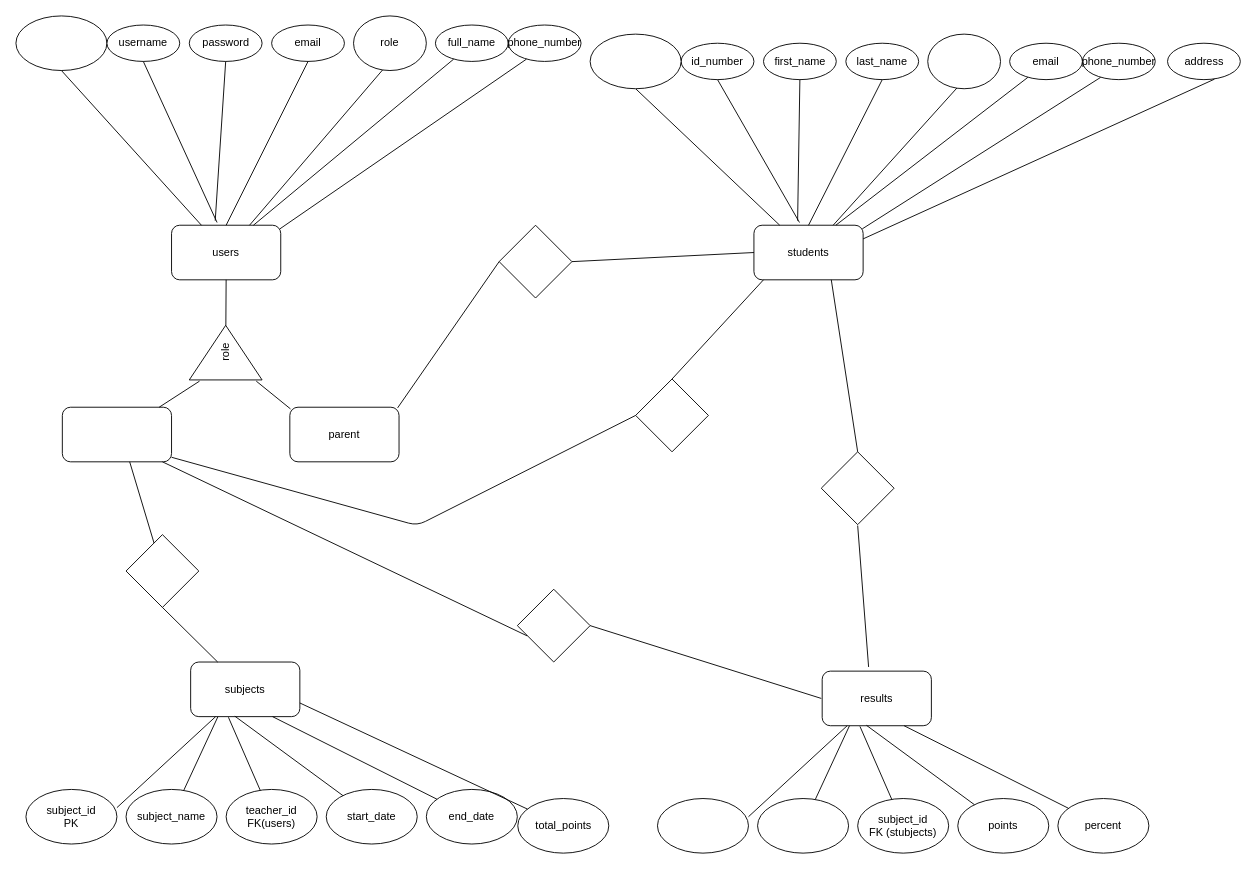
The diagram is 1257 pixels wide and 869 high, and some of its shapes have lost their labels. The centre of each missing label's shape, as x and y in pixels:
"date_of_birth" belongs at point 964,61.
"gets" belongs at point 857,488.
"partent to" belongs at point 535,261.
"registers" belongs at point 553,625.
"result_id PK" belongs at point 702,825.
"student_id FK (students)" belongs at point 803,825.
"student_id PK" belongs at point 635,61.
"teacher" belongs at point 116,434.
"teacher to" belongs at point 671,415.
"teaches" belongs at point 162,570.
"user_id PK" belongs at point 61,43.
